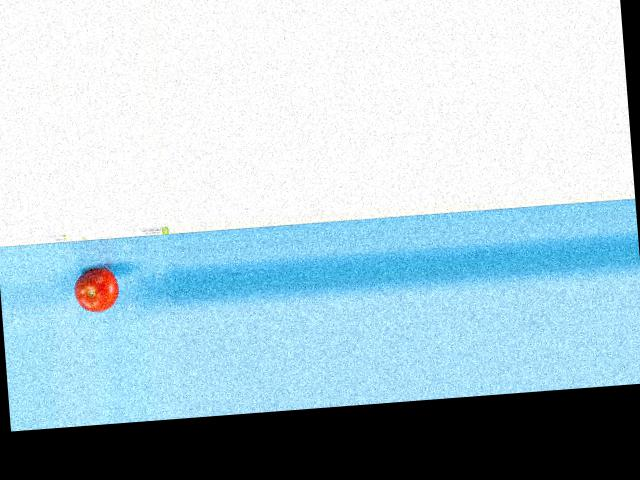tomato: (72, 267, 119, 313)
